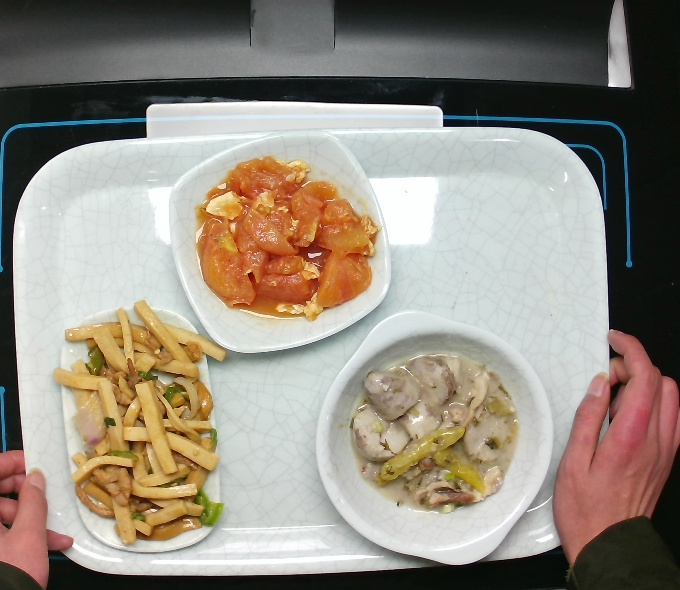wcq-FanQieChaoDan: (190, 147, 382, 328)
wcq-QianYeDouFu: (54, 301, 231, 550)
wcq-YangYu: (346, 343, 531, 519)
